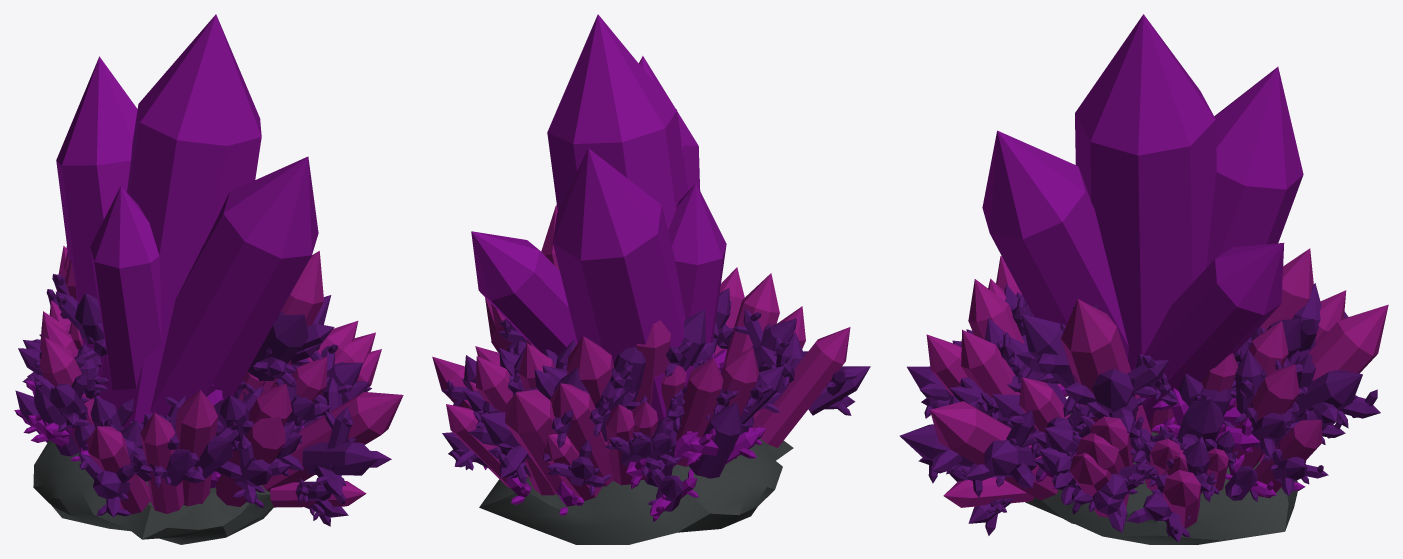
Rendered from Crystal2.fbx.
3 renders of one model, left to right at view 1: azimuth 30°, elevation 25°; view 2: azimuth 150°, elevation 25°; view 3: azimuth 270°, elevation 25°, orthographic. The views are drawn at different scales.
Parts seen in each view (by area): view 1: Cylinder.027, Cylinder.028, Cylinder.029, Cylinder.026, rock.001, rock.001|Cylinder.025|Dupli|57, rock.001|Cylinder.025|Dupli|44, rock.001|Cylinder.031|Dupli|55, rock.001|Cylinder.025|Dupli|19, rock.001|Cylinder.031|Dupli|40, rock.001|Cylinder.025|Dupli|26, rock.001|Cylinder.025|Dupli|24 (+12 smaller); view 2: Cylinder.029, Cylinder.027, rock.001, Cylinder.030, rock.001|Cylinder.025|Dupli|19, rock.001|Cylinder.025|Dupli|2, Cylinder.026, rock.001|Cylinder.025|Dupli|50, rock.001|Cylinder.025|Dupli|35, rock.001|Cylinder.031|Dupli|55, rock.001|Cylinder.025|Dupli|17, rock.001|Cylinder.025|Dupli|37 (+19 smaller); view 3: Cylinder.027, Cylinder.028, Cylinder.029, Cylinder.030, rock.001|Cylinder.025|Dupli|44, rock.001|Cylinder.025|Dupli|57, rock.001|Cylinder.025|Dupli|2, rock.001, rock.001|Cylinder.025|Dupli|33, rock.001|Cylinder.031|Dupli|43, rock.001|Cylinder.031|Dupli|56, rock.001|Cylinder.025|Dupli|30 (+19 smaller).
Part boxes in pixels (x1,y1,x2,y2): Cylinder.027: [101, 14, 261, 428]; Cylinder.028: [150, 156, 318, 416]; Cylinder.029: [56, 56, 137, 398]; Cylinder.026: [90, 186, 161, 390]; rock.001: [33, 440, 273, 544]; rock.001|Cylinder.025|Dupli|57: [262, 377, 403, 504]; rock.001|Cylinder.025|Dupli|44: [247, 251, 334, 390]; rock.001|Cylinder.031|Dupli|55: [143, 390, 241, 506]; rock.001|Cylinder.025|Dupli|19: [79, 419, 153, 516]; rock.001|Cylinder.031|Dupli|40: [124, 412, 205, 513]; rock.001|Cylinder.025|Dupli|26: [216, 417, 294, 507]; rock.001|Cylinder.025|Dupli|24: [33, 337, 107, 451]; Cylinder.029: [553, 148, 693, 422]; Cylinder.027: [547, 14, 687, 230]; rock.001: [479, 438, 793, 544]; Cylinder.030: [471, 231, 577, 356]; rock.001|Cylinder.025|Dupli|19: [752, 327, 870, 447]; rock.001|Cylinder.025|Dupli|2: [469, 367, 589, 494]; Cylinder.026: [668, 183, 726, 361]; rock.001|Cylinder.025|Dupli|50: [543, 368, 640, 486]; rock.001|Cylinder.025|Dupli|35: [526, 336, 662, 410]; rock.001|Cylinder.031|Dupli|55: [717, 273, 796, 373]; rock.001|Cylinder.025|Dupli|17: [635, 309, 715, 405]; rock.001|Cylinder.025|Dupli|37: [664, 357, 748, 466]; Cylinder.027: [1075, 14, 1216, 369]; Cylinder.028: [982, 130, 1128, 359]; Cylinder.029: [1206, 66, 1303, 267]; Cylinder.030: [1131, 243, 1284, 423]; rock.001|Cylinder.025|Dupli|44: [1016, 299, 1168, 449]; rock.001|Cylinder.025|Dupli|57: [899, 395, 1058, 500]; rock.001|Cylinder.025|Dupli|2: [1288, 283, 1388, 428]; rock.001: [1025, 413, 1297, 544]; rock.001|Cylinder.025|Dupli|33: [1231, 349, 1304, 468]; rock.001|Cylinder.031|Dupli|43: [1126, 436, 1214, 542]; rock.001|Cylinder.031|Dupli|56: [949, 317, 1030, 435]; rock.001|Cylinder.025|Dupli|30: [1034, 416, 1154, 525].
Bounding box in the file's own units: 404 × 533 × 463.
